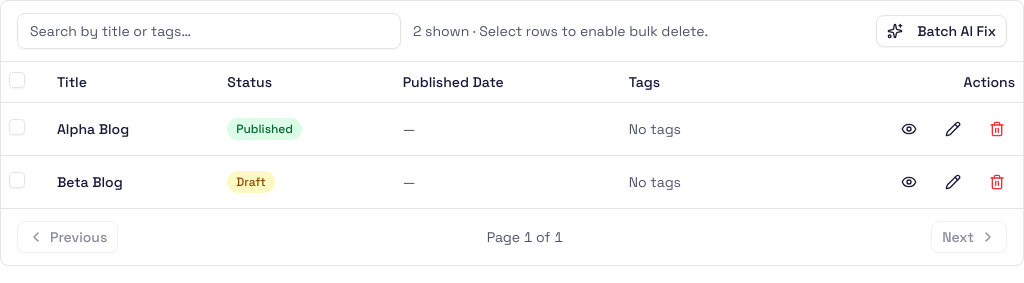
it: admin bulk selection tables › renders a distinct admin blog empty-search row with table semantics
The image size is (1024, 283).
In the field named "Search blog titles": (209, 31) [17,13,401,49], type "no-result"
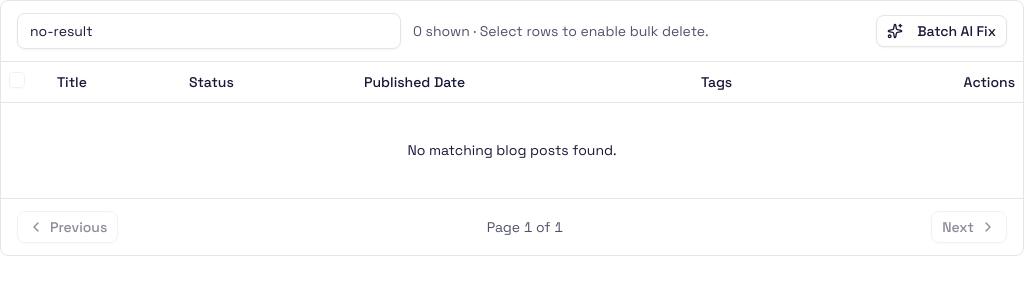
Expected: the table is shown, [1,62,1023,198]
Expected: the row with test id "admin-blog-row" is gone
